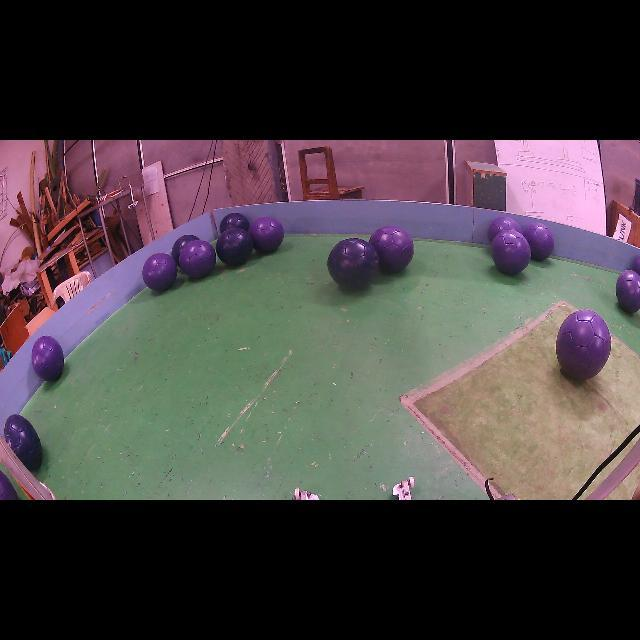B: (328, 238, 379, 289), (4, 414, 42, 471), (216, 228, 252, 266), (171, 235, 199, 266), (220, 212, 250, 234)
P: (556, 310, 611, 380), (369, 225, 415, 272), (491, 230, 531, 274), (31, 336, 64, 381), (179, 240, 216, 278), (142, 252, 178, 291), (249, 216, 284, 252), (524, 222, 554, 261), (616, 270, 640, 312), (488, 216, 521, 244)
